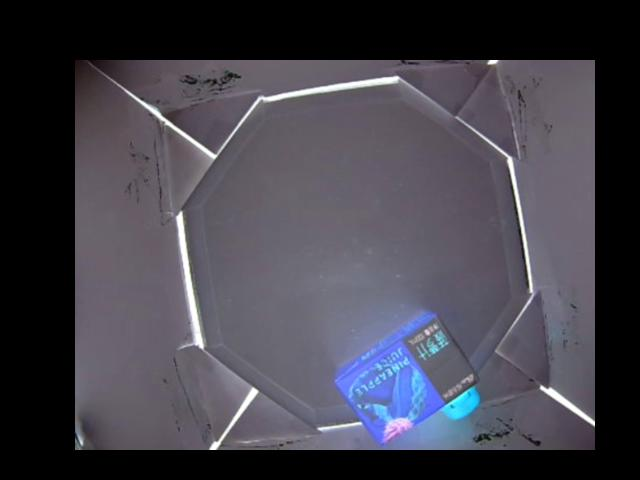Bottle: (332, 309, 482, 446)
